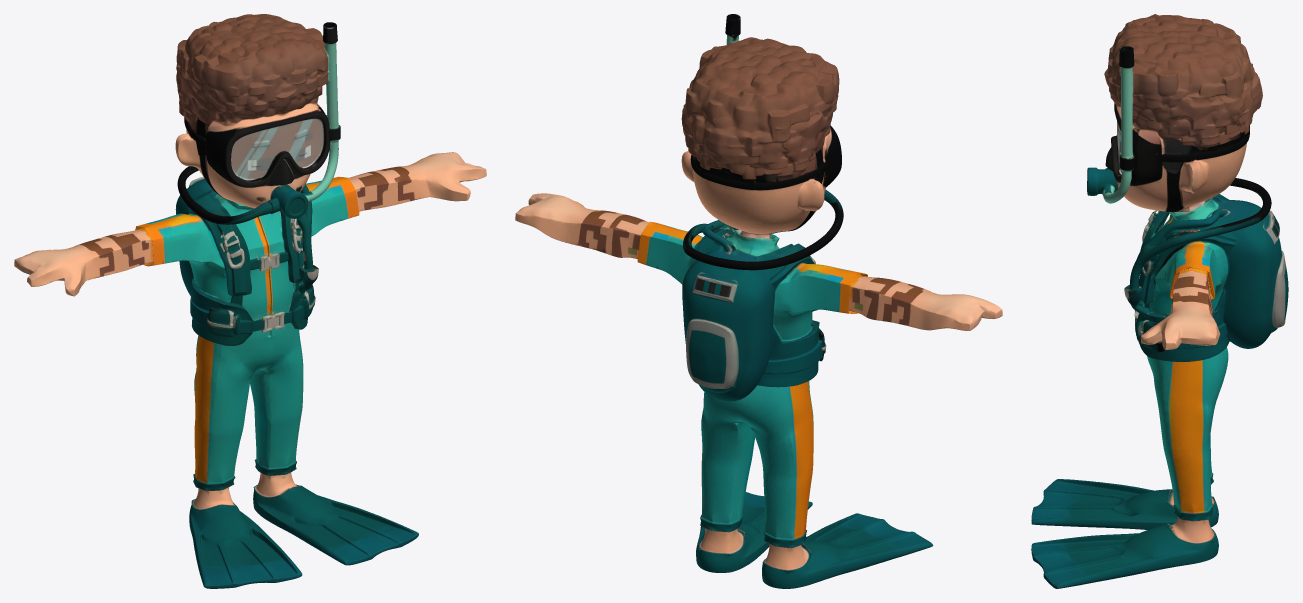
The model's file is Meshy_AI_Bubble_Scout_0703191646_texture.fbx.
3 views of the same model, side by side, from view 1: azimuth 30°, elevation 25°; view 2: azimuth 150°, elevation 25°; view 3: azimuth 270°, elevation 25° (orthographic). The views are drawn at different scales.
Visible parts, largest first — view 1: Mesh_0; view 2: Mesh_0; view 3: Mesh_0.
Boxes of the visible parts, x1,y1,x2,y2 form: Mesh_0: (14,14,486,588); Mesh_0: (515,14,1002,588); Mesh_0: (1031,14,1288,588).
Bounding box in the file's own units: 181 × 190 × 86.
1 material, 1 textured.
